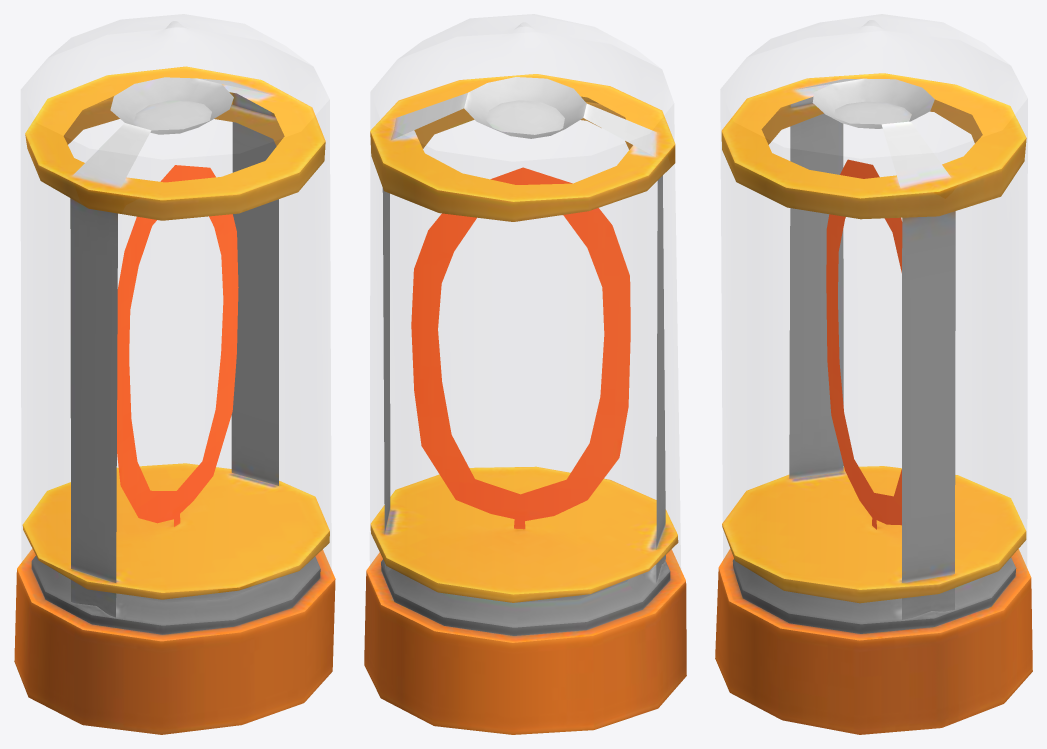
Rendered from obj_num00_base.gltf.
The picture shows the model from 3 angles, left to right: view 1: azimuth 30°, elevation 25°; view 2: azimuth 150°, elevation 25°; view 3: azimuth 270°, elevation 25°; orthographic projection.
Visible parts, largest first — view 1: obj_num00_base, obj_num00_glass; view 2: obj_num00_base, obj_num00_glass; view 3: obj_num00_base, obj_num00_glass.
Boxes of the visible parts, x1=… form: obj_num00_base: x1=14, y1=66, x2=335, y2=734; obj_num00_glass: x1=21, y1=14, x2=330, y2=576; obj_num00_base: x1=364, y1=74, x2=686, y2=734; obj_num00_glass: x1=370, y1=14, x2=680, y2=579; obj_num00_base: x1=715, y1=73, x2=1032, y2=734; obj_num00_glass: x1=721, y1=14, x2=1027, y2=574.
Size of what is drawn, in the model's own units: 0.3237 by 0.7152 by 0.3185.
Materials: 2 (1 with a texture image).
